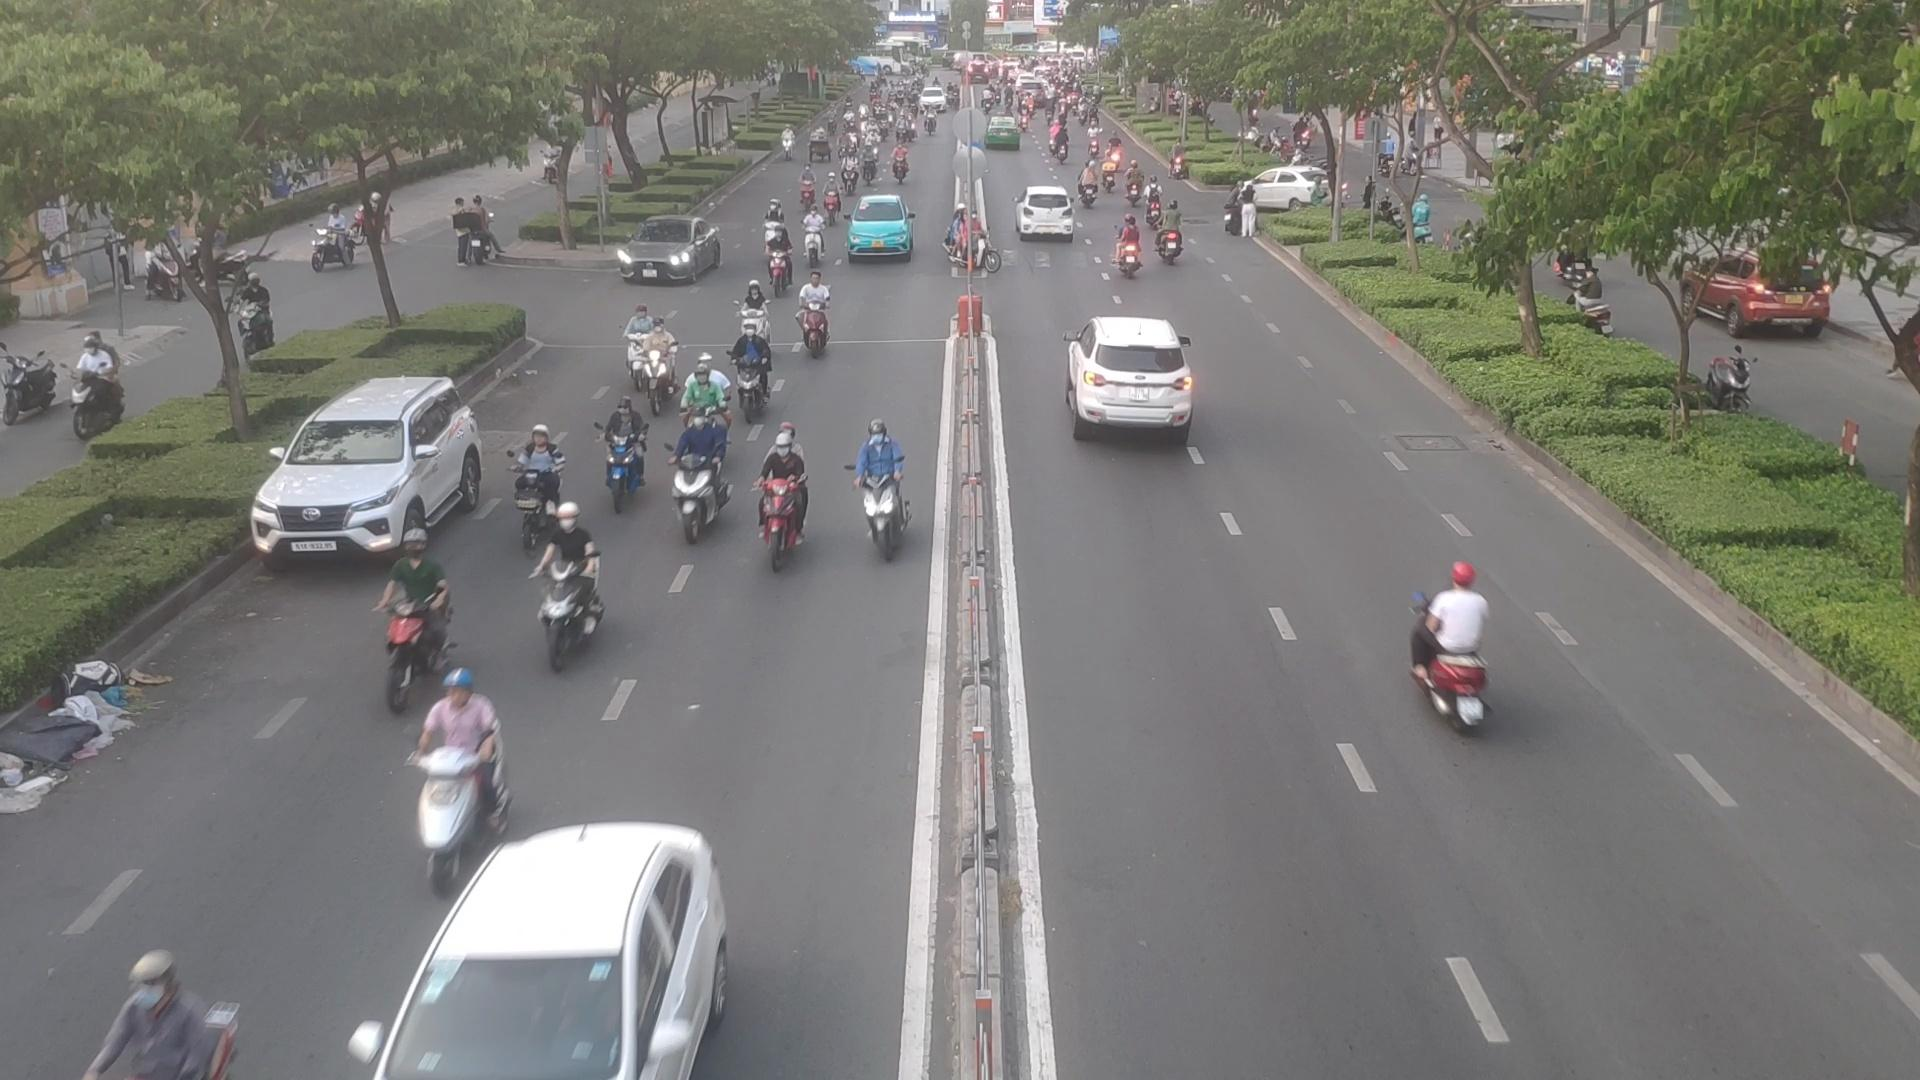car: (388, 804, 719, 1056), (252, 378, 492, 568), (1065, 318, 1197, 434), (615, 219, 724, 287), (841, 193, 914, 262), (1015, 187, 1075, 237)
motorbike: (69, 951, 249, 1080), (404, 673, 510, 858), (1410, 541, 1497, 735), (367, 525, 444, 682), (752, 415, 818, 570), (663, 413, 733, 550), (851, 423, 920, 553), (537, 558, 612, 673), (516, 425, 570, 554), (603, 396, 651, 493), (793, 266, 845, 351), (642, 316, 684, 404), (727, 331, 770, 400), (953, 224, 1000, 280), (696, 345, 731, 418), (1151, 189, 1184, 264), (618, 305, 649, 380), (741, 280, 771, 345), (1116, 211, 1139, 293), (796, 206, 829, 257), (769, 233, 799, 287), (823, 171, 843, 233), (1080, 157, 1102, 206), (767, 200, 793, 241), (1139, 174, 1160, 210)
